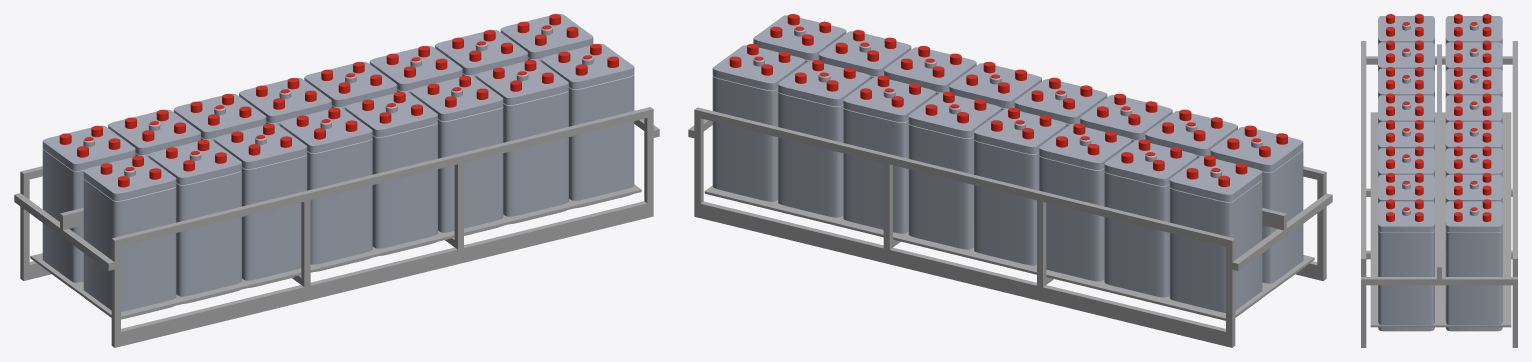
3 renders of one model, left to right at view 1: azimuth 30°, elevation 25°; view 2: azimuth 150°, elevation 25°; view 3: azimuth 270°, elevation 25°, orthographic. The views are drawn at different scales.
Visible parts, largest first — view 1: RM519, Box043; view 2: RM519, Box043; view 3: RM519, Box043.
Boxes of the visible parts, x1,y1,x2,y2 form: RM519: [42, 14, 634, 319]; Box043: [14, 107, 659, 347]; RM519: [712, 14, 1303, 317]; Box043: [688, 107, 1332, 347]; RM519: [1378, 14, 1502, 331]; Box043: [1361, 41, 1517, 347].
Bounding box in the file's own units: 2.7 × 0.7018 × 0.8.
